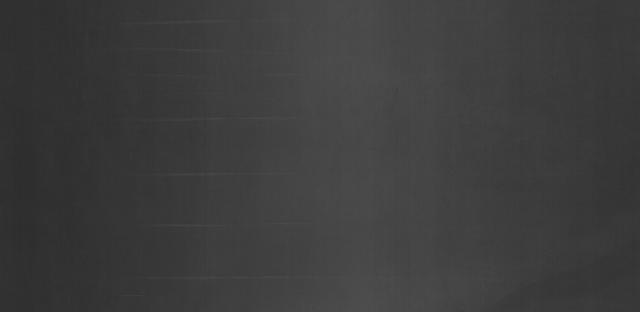waist_folding: (101, 20, 296, 286)
